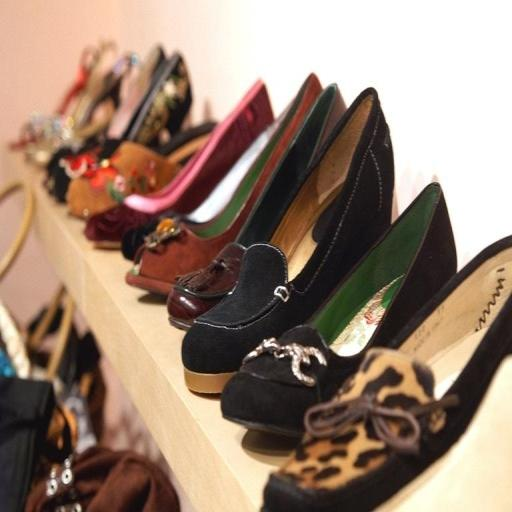heels: (262, 237, 512, 512), (182, 89, 394, 393), (221, 183, 457, 436), (126, 75, 343, 295), (167, 85, 346, 329), (86, 80, 273, 241), (86, 120, 278, 261), (46, 46, 192, 202), (64, 123, 212, 218), (25, 45, 134, 166)
